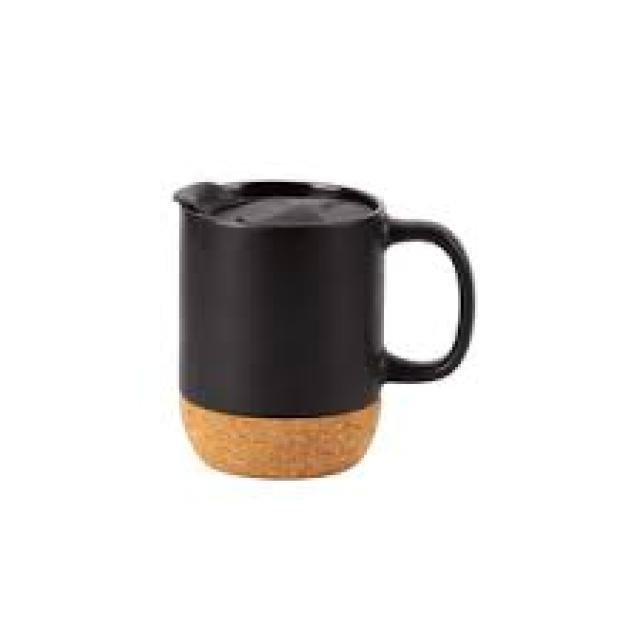taza: (172, 174, 476, 482)
